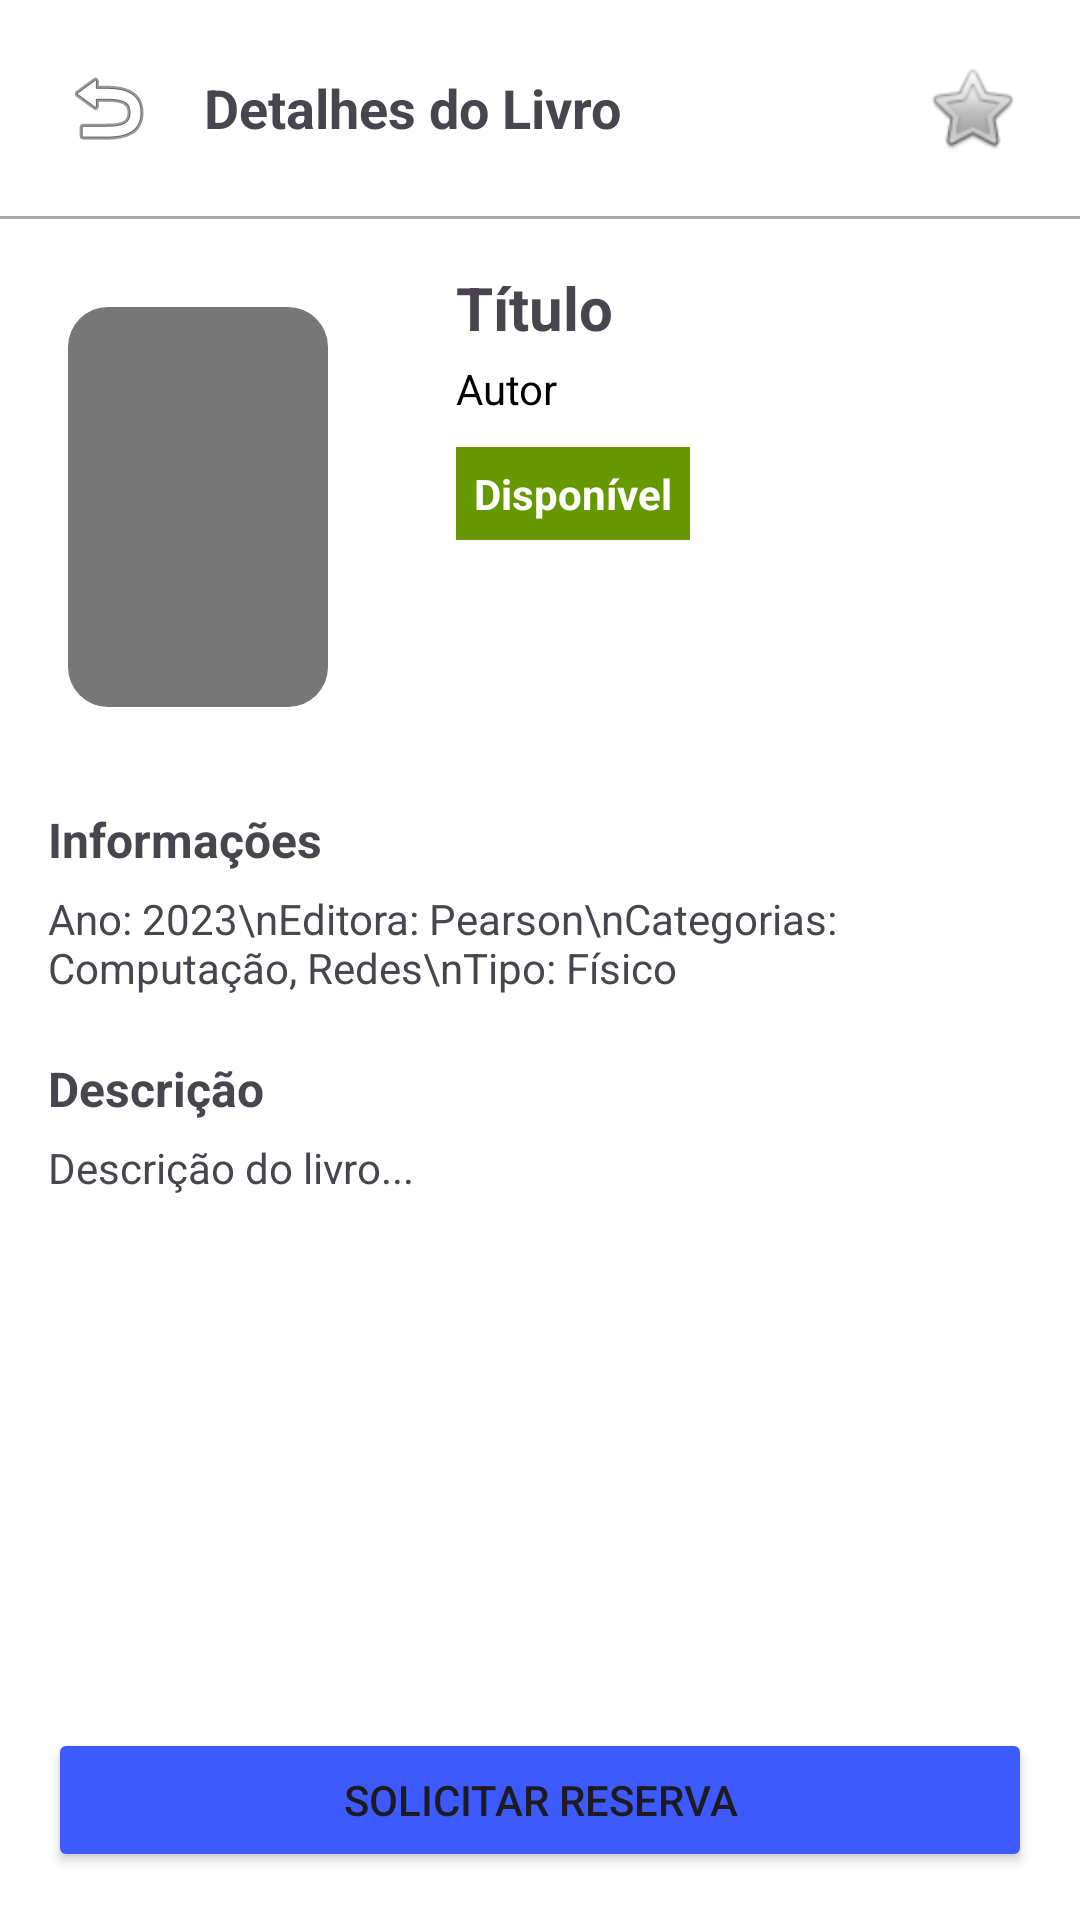

Screen size 1080×1920. Icon name, then its box in pixels as [x1, y1, x2, y2]:
Favoritar: [933, 70, 1013, 148]
Voltar: [75, 77, 144, 140]
